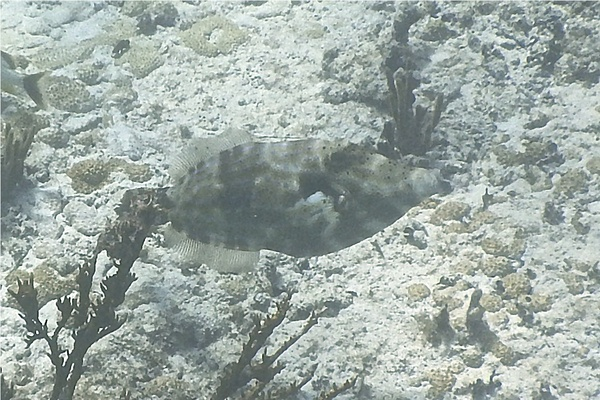Aluterus_scriptus: (139, 124, 443, 275)
